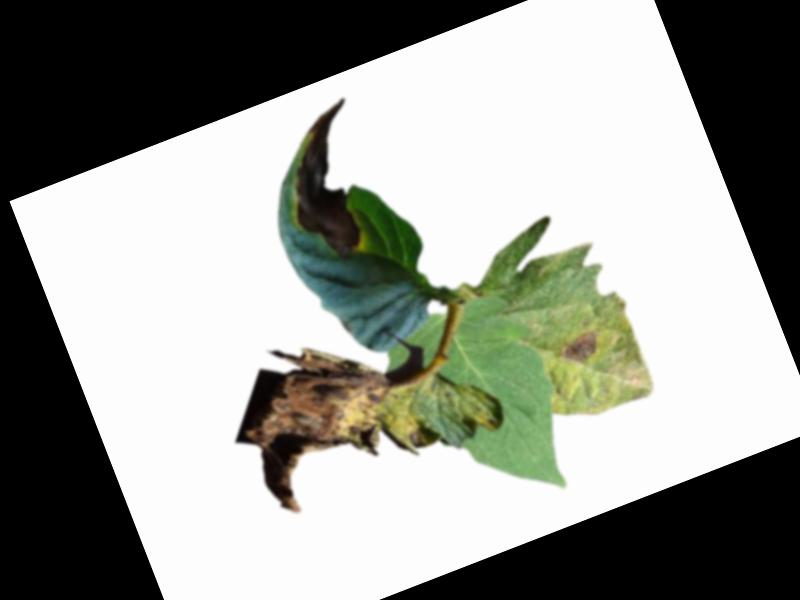Early_blight: (222, 312, 450, 523), (258, 97, 400, 272), (556, 330, 604, 368)
healthy: (371, 286, 586, 535)
